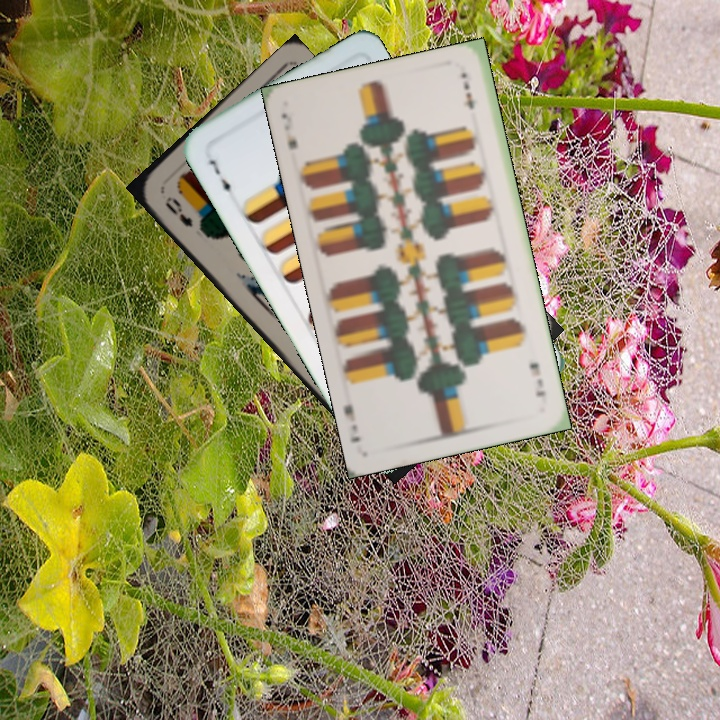E7: (205, 155, 234, 202), (277, 108, 300, 153), (525, 358, 548, 400)
EO: (160, 192, 196, 230)
